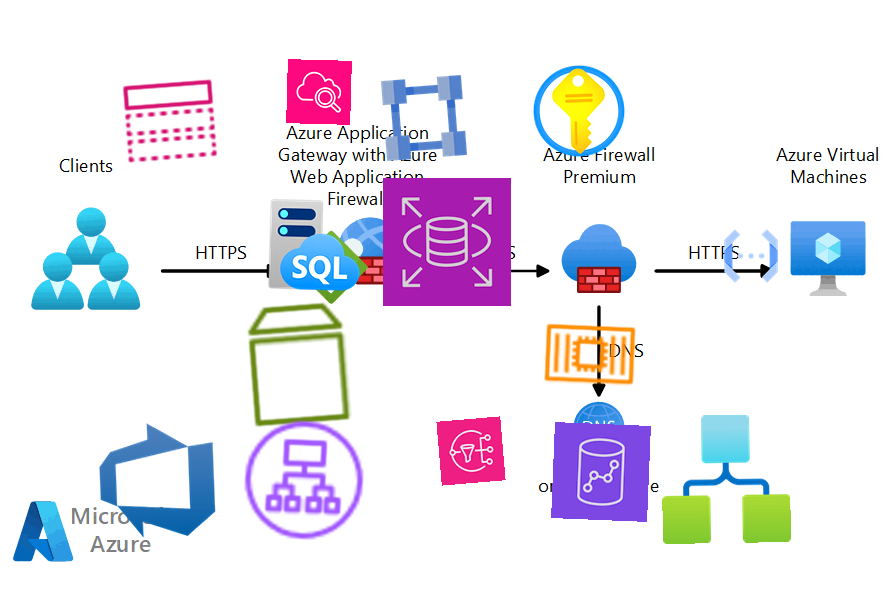aws_amazon_cloudwatch: (286, 59, 352, 125)
aws_amazon_rds: (382, 177, 512, 307)
aws_amazon_redshift: (551, 422, 651, 522)
aws_amazon_simple_notification_service: (436, 416, 506, 486)
aws_elastic_block_store_volume: (230, 295, 368, 433)
aws_elastic_container_service_container_2: (539, 303, 641, 405)
aws_elastic_load_balancing_application_load_balancer: (237, 413, 371, 547)
aws_simple_notification_service_topic: (118, 69, 222, 173)
azure_devops: (90, 413, 224, 547)
azure_key_vaults: (529, 61, 629, 161)
azure_logic_apps: (660, 413, 792, 545)
azure_sql_managed_instance: (265, 195, 365, 295)
gcp_cloud_functions: (718, 223, 784, 289)
gcp_virtual_private_cloud: (372, 66, 476, 170)
